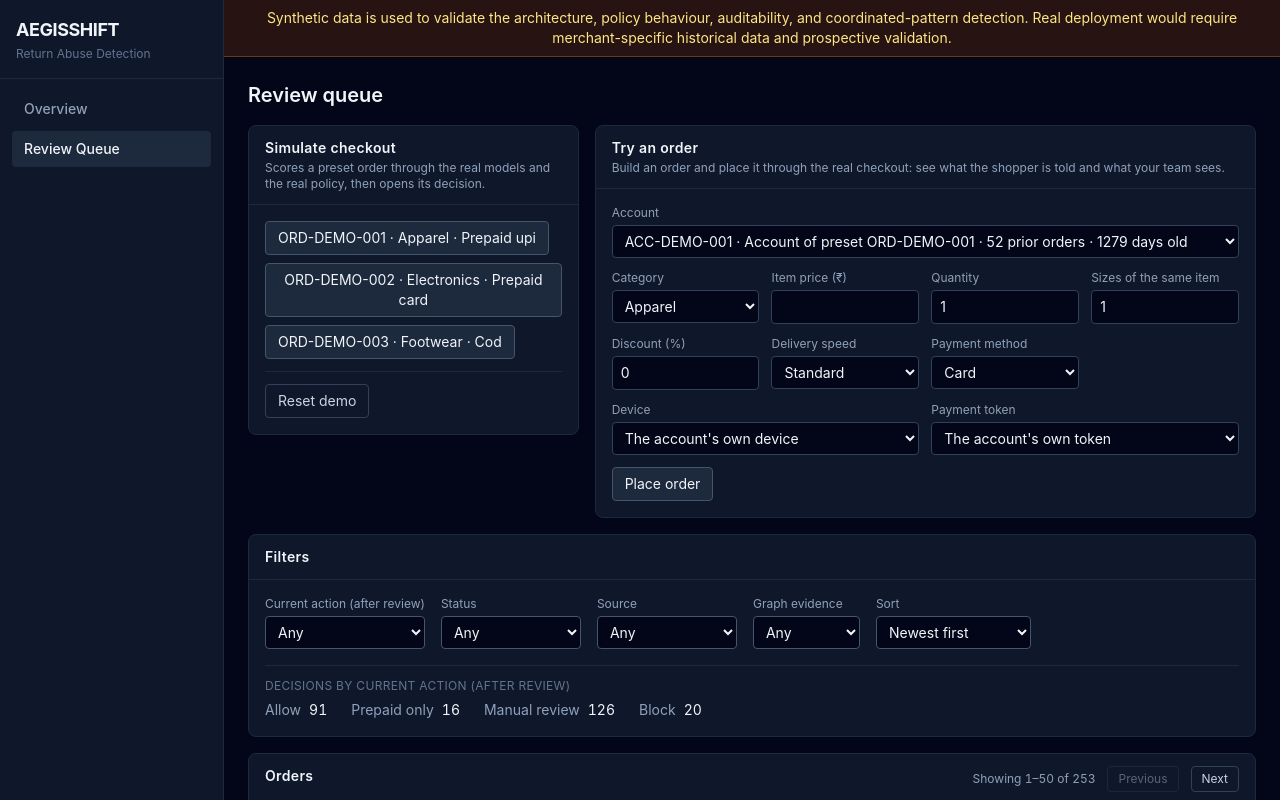
placing an order › shows the server's 422 message when the server still refuses
Check: the form with test id "try-form" is shown, box [612, 205, 1239, 501]
Select "ACC-DEMO-001 · Account of preset ORD-DEMO-001 · 52 prior orders · 1279 days old" in the dropdown labelled "Account" at (925, 242), box [612, 225, 1239, 258]
Type "1499" into the number field labelled "Item price (₹)" at (845, 307), box [772, 290, 919, 324]
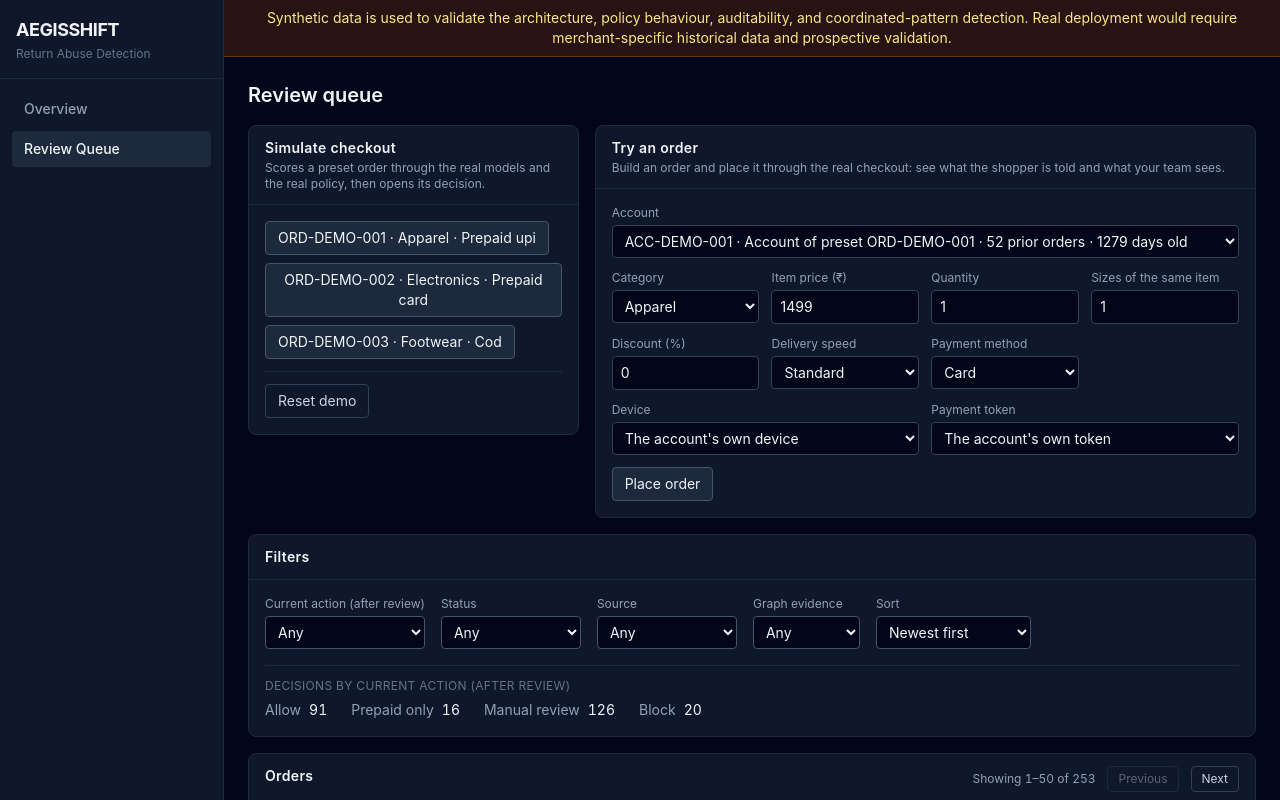
Click the button with test id "try-submit" at (663, 484), box [612, 467, 713, 501]
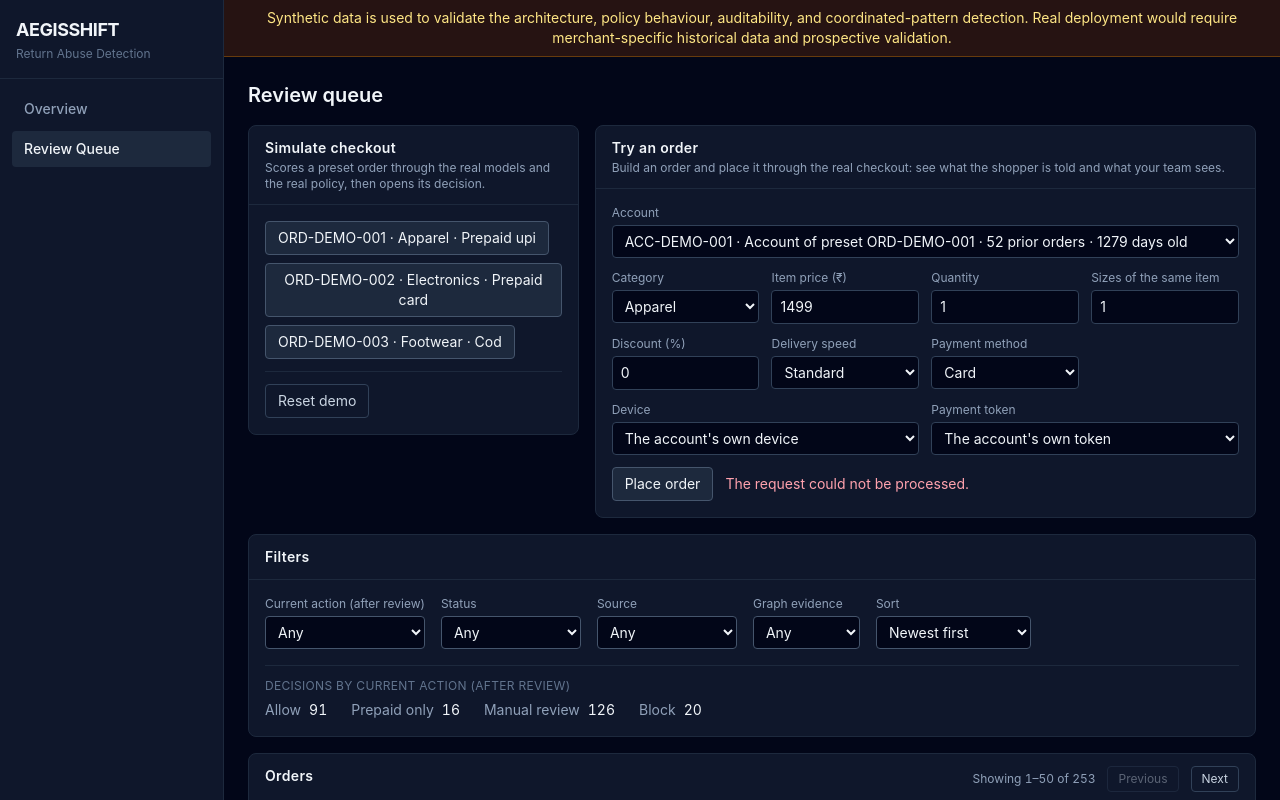
Check: the message with test id "try-rejected" reads "The request could not be processed.", box [725, 475, 969, 492]
